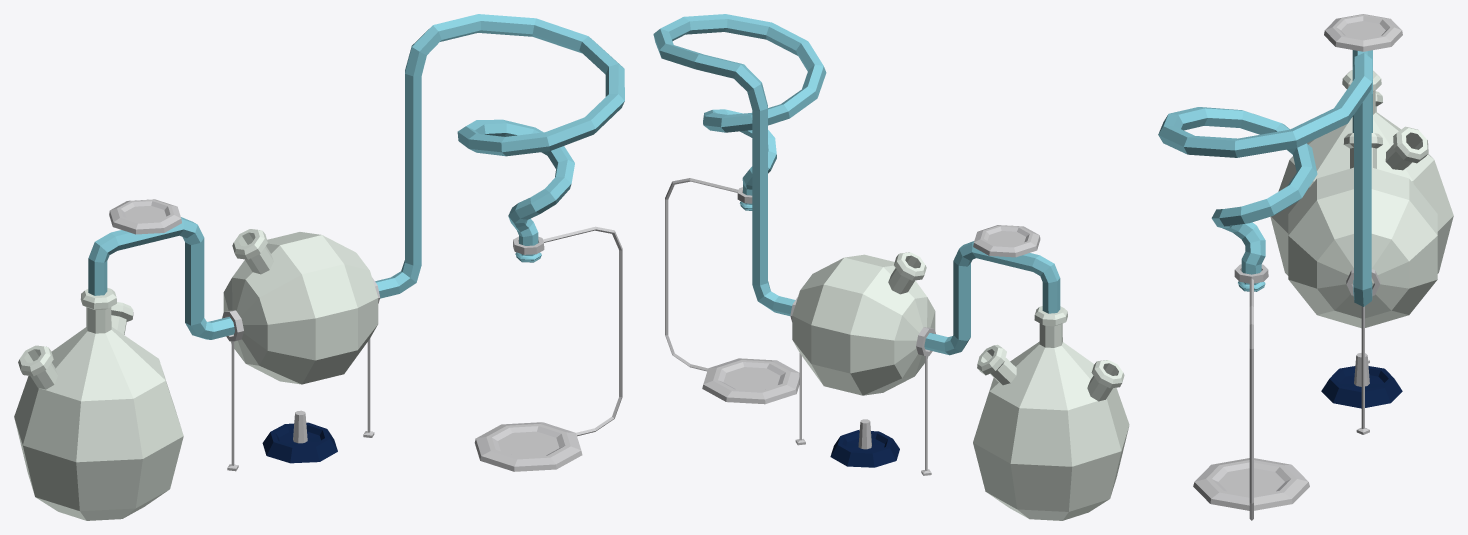
The model's file is Alemb.fbx.
The picture shows the model from 3 angles, left to right: view 1: azimuth 30°, elevation 25°; view 2: azimuth 150°, elevation 25°; view 3: azimuth 270°, elevation 25°; orthographic projection. The views are drawn at different scales.
Parts seen in each view (by area): view 1: Alembic; view 2: Alembic; view 3: Alembic.
Boxes of the visible parts, x1,y1,x2,y2 form: Alembic: (14,14,624,520); Alembic: (653,14,1129,520); Alembic: (1158,14,1453,520).
Size of the model in its own units: 122 by 83.97 by 54.46.
Materials: 1 (1 with a texture image).
